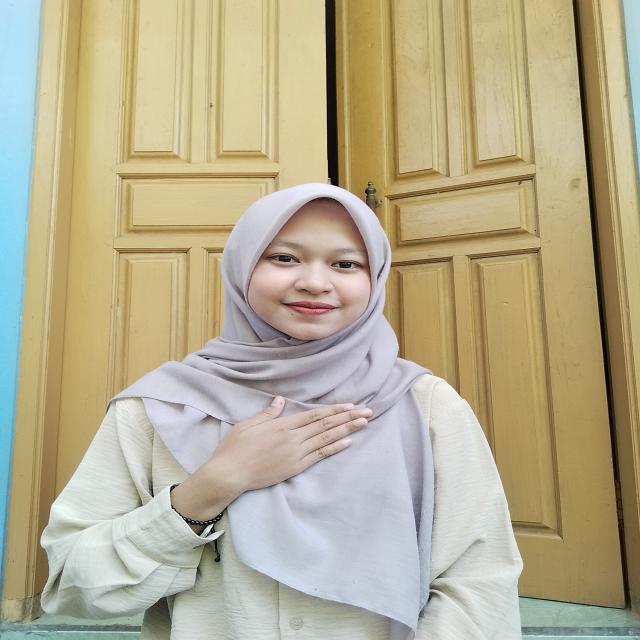tolong: (166, 388, 369, 523)
